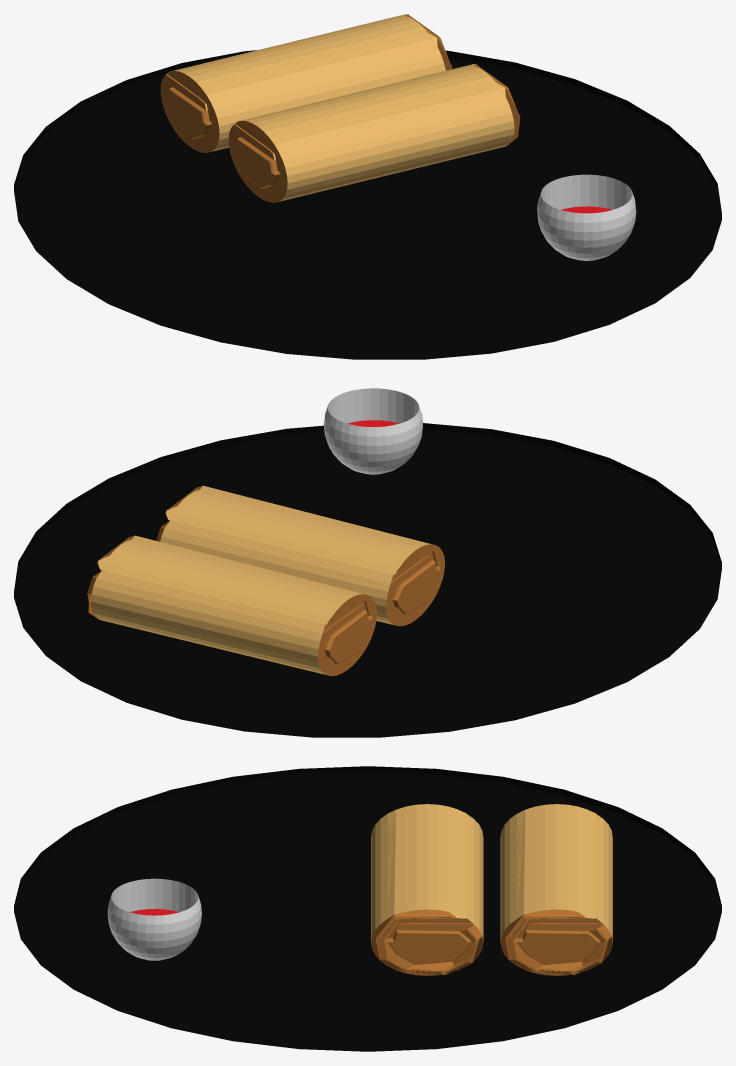
The model's file is rollitosPrimavera.fbx.
3 views of the same model, one above another, from view 1: azimuth 30°, elevation 25°; view 2: azimuth 150°, elevation 25°; view 3: azimuth 270°, elevation 25° (orthographic). The views are drawn at different scales.
Parts seen in each view (by area): view 1: Cilindro.001, Cilindro.003, Cilindro, Cilindro.002; view 2: Cilindro.001, Cilindro, Cilindro.003, Cilindro.002; view 3: Cilindro.001, Cilindro, Cilindro.003, Cilindro.002.
Part boxes in pixels (x1,y1,x2,y2): Cilindro.001: (14, 50, 721, 359); Cilindro.003: (228, 64, 520, 202); Cilindro: (160, 14, 452, 152); Cilindro.002: (537, 174, 636, 260); Cilindro.001: (14, 423, 721, 737); Cilindro: (87, 535, 376, 676); Cilindro.003: (156, 485, 444, 626); Cilindro.002: (324, 388, 422, 474); Cilindro.001: (14, 766, 721, 1051); Cilindro: (500, 804, 612, 975); Cilindro.003: (371, 804, 483, 975); Cilindro.002: (107, 878, 201, 960).
Size of the model in its own units: 1400 by 167 by 1497.
